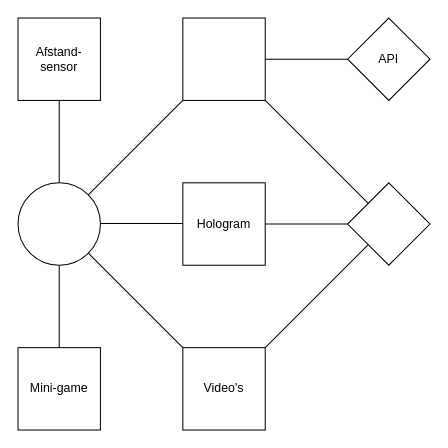
Image size: 448x448. Some labels were removed from this diagram. Here are the shapes that lost their labels. From the top down, the centre of each, then its label:
At point (223, 58): "Interactieve kaart".
At point (58, 223): "Het museum".
At point (388, 223): "Database".
